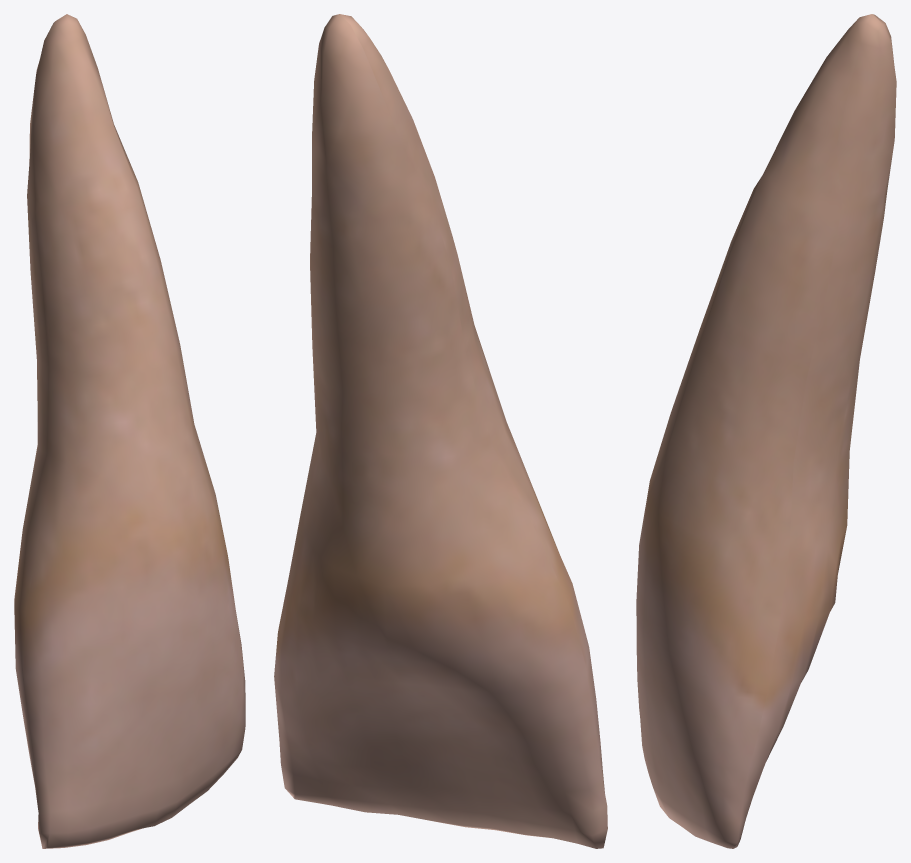
3 views of the same model, side by side, from view 1: azimuth 30°, elevation 25°; view 2: azimuth 150°, elevation 25°; view 3: azimuth 270°, elevation 25° (orthographic). The views are drawn at different scales.
Visible parts, largest first — view 1: t_21; view 2: t_21; view 3: t_21.
Boxes of the visible parts, left/top/right/bottom form: t_21: left=14, top=14, right=245, bottom=848; t_21: left=274, top=14, right=607, bottom=848; t_21: left=636, top=14, right=896, bottom=848.
Bounding box in the file's own units: 0.0776 × 0.2333 × 0.0687.
1 material, 1 textured.
